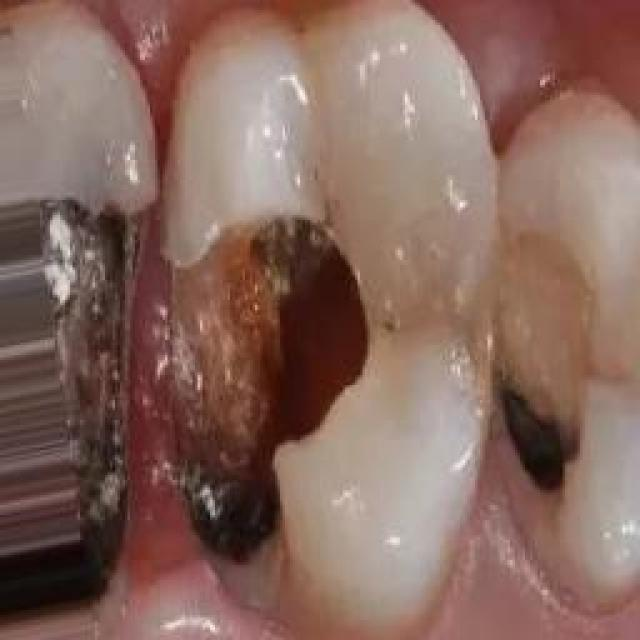caries: (34, 158, 432, 588)
